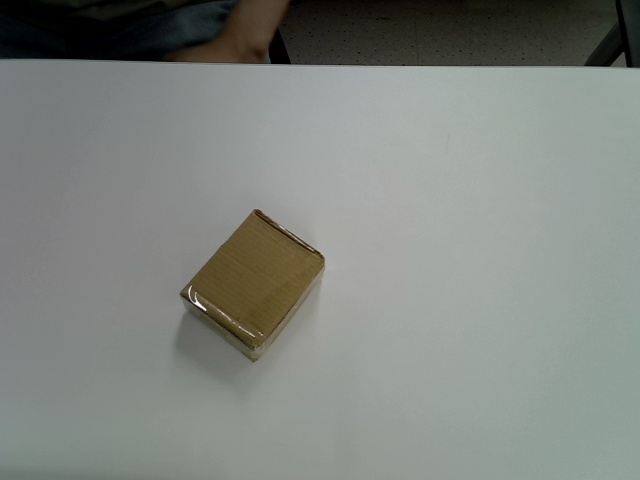normal: (179, 208, 326, 362)
